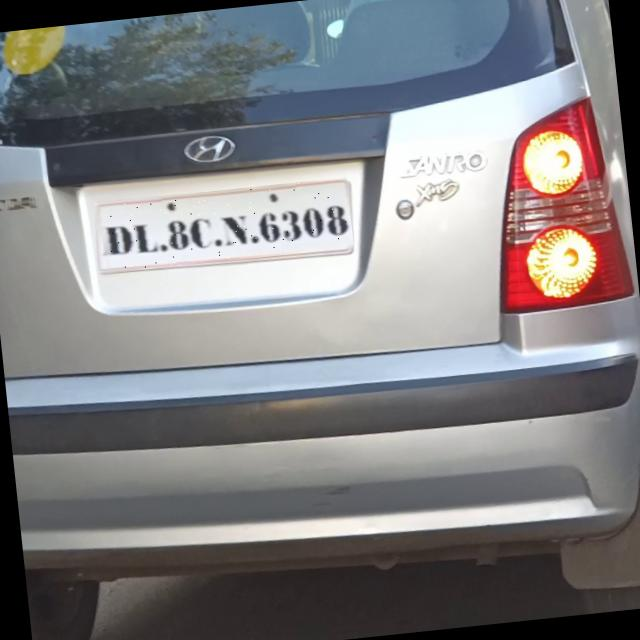Plate: (95, 178, 355, 275)
